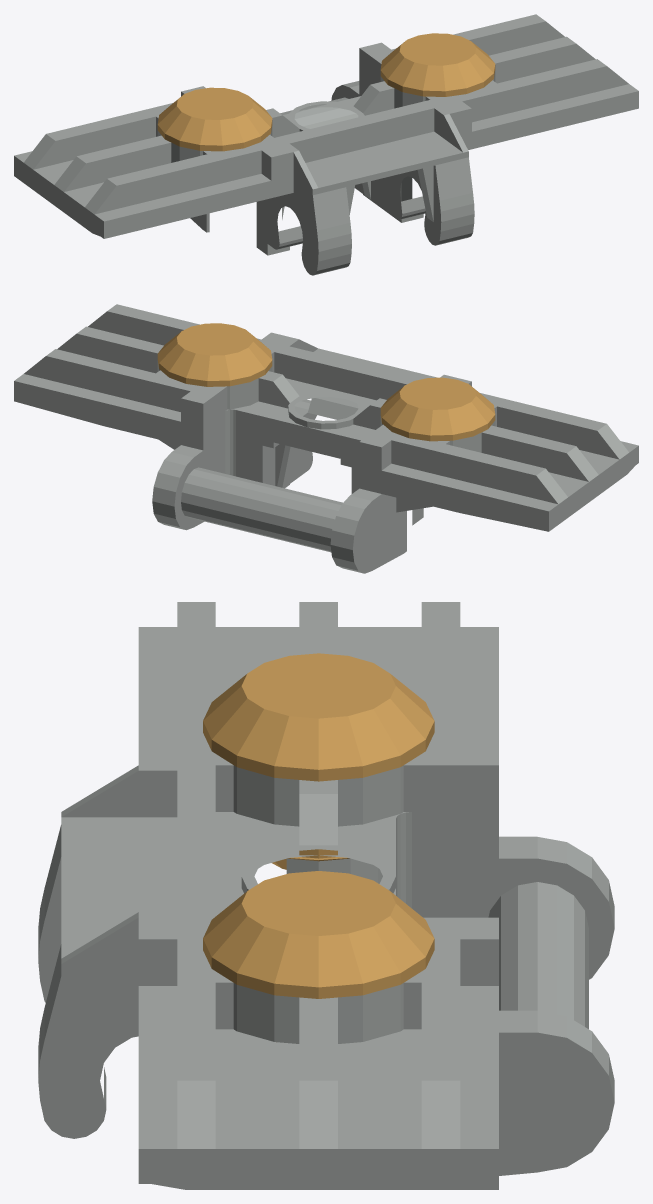
3 renders of one model, top to bottom at view 1: azimuth 30°, elevation 25°; view 2: azimuth 150°, elevation 25°; view 3: azimuth 270°, elevation 25°, orthographic. The views are drawn at different scales.
Visible parts, largest first — view 1: world; view 2: world; view 3: world.
Boxes of the visible parts, left/top/right/bottom form: world: left=14, top=14, right=638, bottom=275; world: left=14, top=304, right=638, bottom=573; world: left=38, top=602, right=614, bottom=1189.
Bounding box in the file's own units: 0.0384 × 0.01 × 0.0179.
